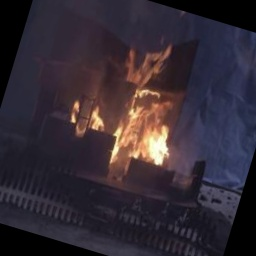fire: (75, 28, 204, 181)
